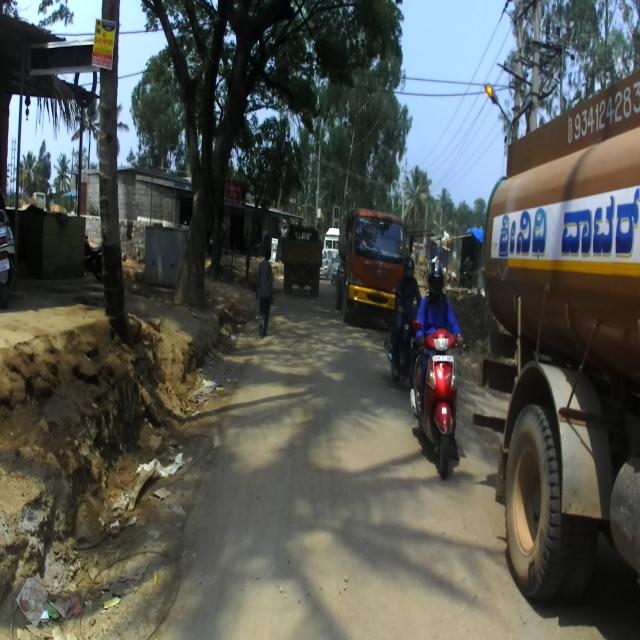motorcycle ahead at: (414, 306, 464, 472)
tree ahead at: (169, 19, 238, 304), (84, 0, 129, 336)
truck ahead at: (490, 103, 640, 622), (347, 214, 400, 318)
